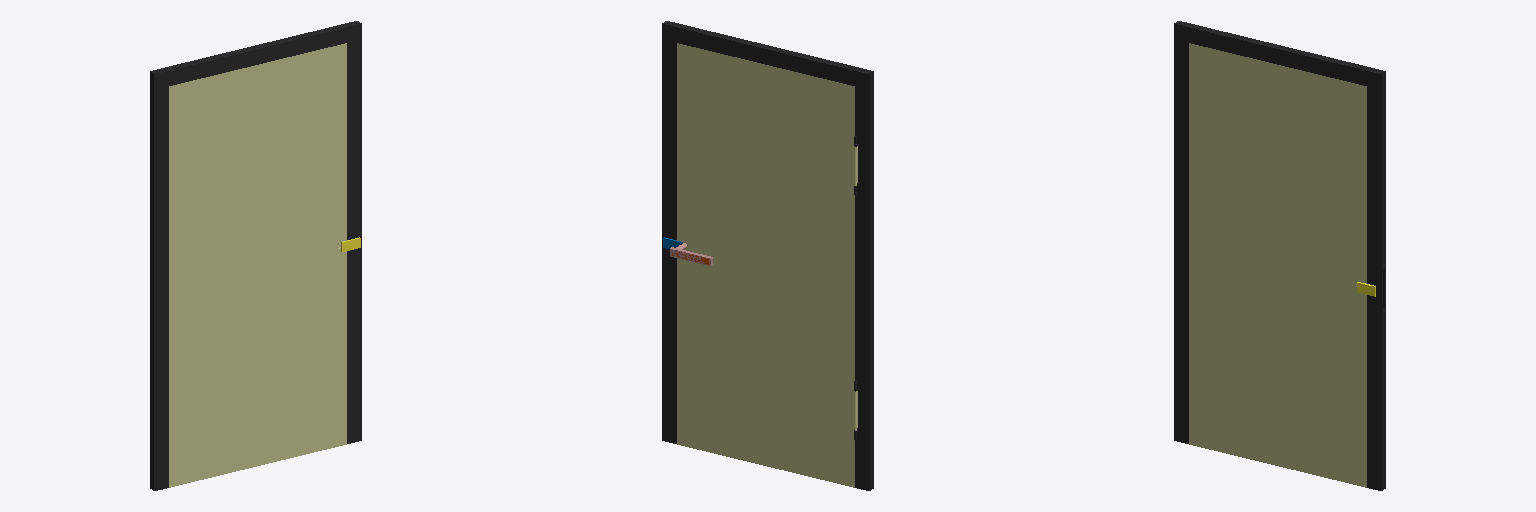
URDF robot description (door):
<?xml version="1.0" encoding="utf-8"?>
<!-- This URDF was automatically created by SolidWorks to URDF Exporter! Originally created by [author] ([email redacted]) 
     Commit Version: 1.6.0-1-g15f4949  Build Version: 1.6.7594.29634
     For more information, please see http://wiki.ros.org/sw_urdf_exporter -->
<robot
  name="door">
<!--  <link name="door_plane">-->
<!--    <visual>-->
<!--      <origin-->
<!--              xyz="0.5 0 0"-->
<!--              rpy="0 0 0" />-->
<!--      <geometry>-->
<!--        <box size="1 4 0.005"/>-->
<!--      </geometry>-->
<!--    </visual>-->
<!--    <collision>-->
<!--      <origin-->
<!--              xyz="0.5 0 0"-->
<!--              rpy="0 0 0" />-->
<!--      <geometry>-->
<!--        <box size="1 4 0.005"/>-->
<!--      </geometry>-->
<!--    </collision>-->
<!--  </link>-->
<!--  <joint name="door_plane_to_cover" type="fixed">-->
<!--    <origin xyz="0 0 0.005" rpy="0 0 0" />-->
<!--    <parent link="door_plane" />-->
<!--    <child link="door_cover_link" />-->
<!--  </joint>-->
  <link
    name="door_cover_link">
    <inertial>
      <origin
        xyz="0.469 -0.020062 1.2583"
        rpy="0 0 0" />
      <mass
        value="16.213" />
      <inertia
        ixx="7.6894"
        ixy="-0.00048417"
        ixz="-0.022714"
        iyy="11.42"
        iyz="-0.00023584"
        izz="3.7353" />
    </inertial>
    <visual>
      <origin
        xyz="0 0 0"
        rpy="0 0 0" />
      <geometry>
        <mesh
          filename="package://door/meshes/door_cover_link.STL" />
      </geometry>
      <material
        name="">
        <color
          rgba="0.2 0.2 0.2 1" />
      </material>
    </visual>
    <collision>
      <origin
        xyz="0 0 0"
        rpy="0 0 0" />
      <geometry>
        <mesh
          filename="package://door/meshes/door_cover_link.STL" />
      </geometry>
    </collision>
  </link>
  <link
    name="door_link">
    <inertial>
      <origin
        xyz="0.48213 -0.029974 -0.775"
        rpy="0 0 0" />
      <mass
        value="77.583" />
      <inertia
        ixx="27.328"
        ixy="0.00096194"
        ixz="4.1984E-16"
        iyy="33.123"
        iyz="-5.5362E-17"
        izz="5.8156" />
    </inertial>
    <visual>
      <origin
        xyz="0 0 0"
        rpy="0 0 0" />
      <geometry>
        <mesh
          filename="package://door/meshes/door_link.STL" />
      </geometry>
      <material
        name="">
        <color
          rgba="0.8 0.8 0.6 1" />
      </material>
    </visual>
    <collision>
      <origin
        xyz="0 0 0"
        rpy="0 0 0" />
      <geometry>
        <mesh
          filename="package://door/meshes/door_link.STL" />
      </geometry>
    </collision>
  </link>
  <joint
    name="door_shaft_joint"
    type="revolute">
    <origin
      xyz="-0.01 0.01 1.8"
      rpy="0 0 0" />
    <parent
      link="door_cover_link" />
    <child
      link="door_link" />
    <axis
      xyz="0 0 1" />
    <limit
      lower="0"
      upper="1.5708"
      effort="0"
      velocity="0" />
    <dynamics
      damping="1"
      friction="1" />
  </joint>
  <link
    name="door_hinge_link">
    <inertial>
      <origin
        xyz="-0.068706 0.07843 -2.7756E-17"
        rpy="0 0 0" />
      <mass
        value="0.23055" />
      <inertia
        ixx="0.0001603"
        ixy="0.00018327"
        ixz="-2.2485E-20"
        iyy="0.001077"
        iyz="6.6033E-21"
        izz="0.001184" />
    </inertial>
    <visual>
      <origin
        xyz="0 0 0"
        rpy="0 0 0" />
      <geometry>
        <mesh
          filename="package://door/meshes/door_hinge_link.STL" />
      </geometry>
      <material
        name="">
        <color
          rgba="0.8 0.6 0.6 1" />
      </material>
    </visual>
<!--    <collision>-->
<!--      <origin-->
<!--        xyz="0 0 0"-->
<!--        rpy="0 0 0" />-->
<!--      <geometry>-->
<!--        <mesh-->
<!--          filename="package://door/meshes/door_hinge_link.STL" />-->
<!--      </geometry>-->
<!--    </collision>-->
  </link>
  <joint
    name="door_hinge_joint"
    type="revolute">
    <origin
      xyz="0.92 -0.01 -0.775"
      rpy="0 0 0" />
    <parent
      link="door_link" />
    <child
      link="door_hinge_link" />
    <axis
      xyz="0 -1 0" />
    <limit
      lower="0"
      upper="1.5708"
      effort="0"
      velocity="0" />
    <dynamics
      damping="1"
      friction="1" />
  </joint>

  <!-- by [author] 2022/4/3 -->
  <link name="hinge_lock">
    <visual>
      <origin
              xyz="0.05 -0.06 0"
              rpy="0 1.5708 0" />
      <geometry>
        <box size="0.05 0.01 0.1"/>
      </geometry>
    </visual>
    <collision>
      <origin
              xyz="0.05 -0.06 0"
              rpy="0 1.5708 0" />
      <geometry>
        <box size="0.05 0.01 0.1"/>
      </geometry>
    </collision>
  </link>
  <joint name="hinge_to_lock" type="fixed">
    <origin xyz="0 0 0" rpy="0 0 0" />
    <parent link="door_hinge_link" />
    <child link="hinge_lock" />
  </joint>
  <link name="hinge_lock_front">
    <visual>
      <origin
              xyz="0.05 0.02 0"
              rpy="0 1.5708 0" />
      <geometry>
        <box size="0.05 0.01 0.1"/>
      </geometry>
    </visual>
    <collision>
      <origin
              xyz="0.05 0.02 0"
              rpy="0 1.5708 0" />
      <geometry>
        <box size="0.05 0.01 0.1"/>
      </geometry>
    </collision>
  </link>
  <joint name="hinge_to_lock_front" type="fixed">
    <origin xyz="0 0 0" rpy="0 0 0" />
    <parent link="door_hinge_link" />
    <child link="hinge_lock_front" />
  </joint>
  <link name="hinge_handle_box">
    <visual>
      <origin
              xyz="-0.09 0.09 0"
              rpy="0 1.5708 0" />
      <geometry>
        <!--  2cm x 3cm x 20cm      -->
        <box size="0.03 0.02 0.2"/>
      </geometry>
    </visual>
    <collision>
      <origin
              xyz="-0.09 0.09 0"
              rpy="0 1.5708 0" />
      <geometry>
        <!--  2cm x 3cm x 20cm      -->
        <box size="0.03 0.02 0.2"/>
      </geometry>
    </collision>
  </link>
  <joint name="hinge_to_handle" type="fixed">
    <origin xyz="0 0 0" rpy="0 0 0" />
    <parent link="door_hinge_link" />
    <child link="hinge_handle_box" />
  </joint>
</robot>

--- Facts derived from the render (not from the file) ---
3 views of the same robot in one strip: view 1: azimuth 30°, elevation 25°; view 2: azimuth 150°, elevation 25°; view 3: azimuth 330°, elevation 25° (orthographic).
Model door with 6 links and 5 joints (2 revolute, 3 fixed), rooted at door_cover_link, posed every joint at zero.
Links seen in each view (by area): view 1: door_link, door_cover_link; view 2: door_link, door_cover_link; view 3: door_link, door_cover_link.
Boxes of the visible links, x1=… form: door_link: x1=169, y1=43, x2=346, y2=487; door_cover_link: x1=150, y1=21, x2=361, y2=490; door_link: x1=677, y1=43, x2=857, y2=487; door_cover_link: x1=662, y1=21, x2=873, y2=490; door_link: x1=1189, y1=43, x2=1366, y2=487; door_cover_link: x1=1174, y1=21, x2=1385, y2=490.
Bounding box of the posed robot: 1.11 × 0.165 × 2.13 m (x, y, z).
Meshes: 3 distinct files referenced, 3 mesh visuals loaded (3 binary STL).